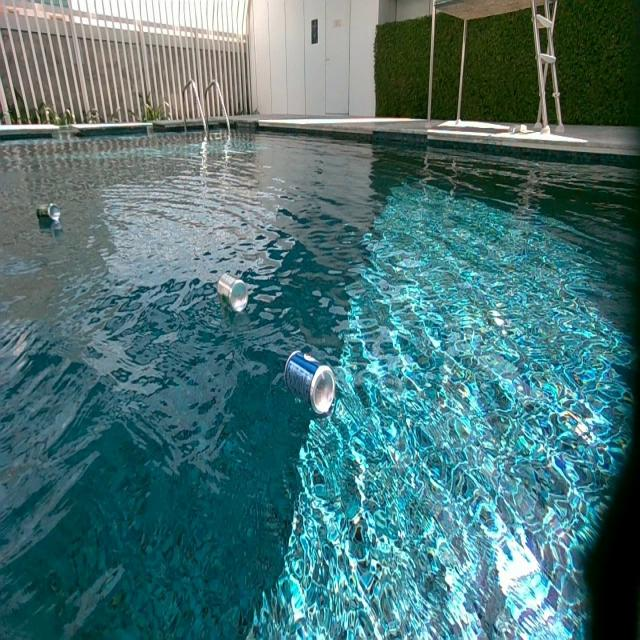Cans: (288, 351, 337, 418), (216, 274, 248, 312), (38, 204, 61, 226)
